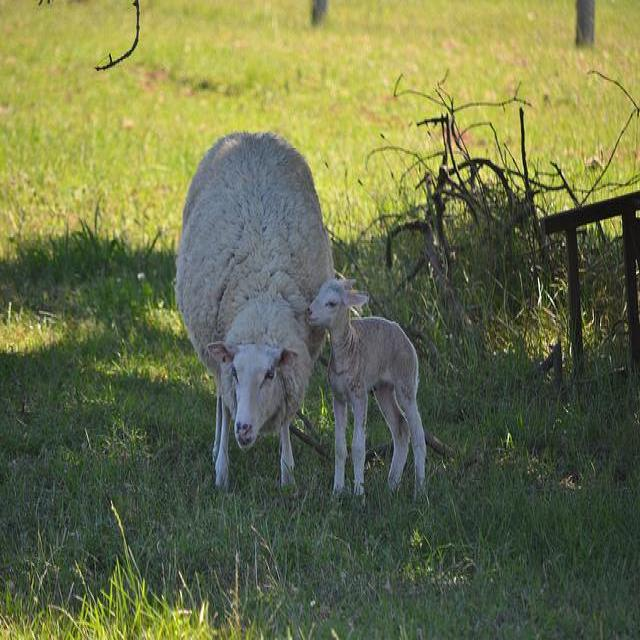Sheep: (174, 131, 339, 498), (306, 279, 427, 512)
